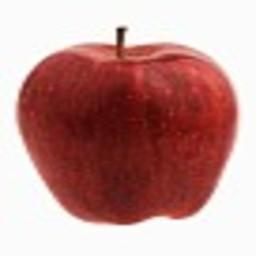apple: (17, 32, 237, 225)
